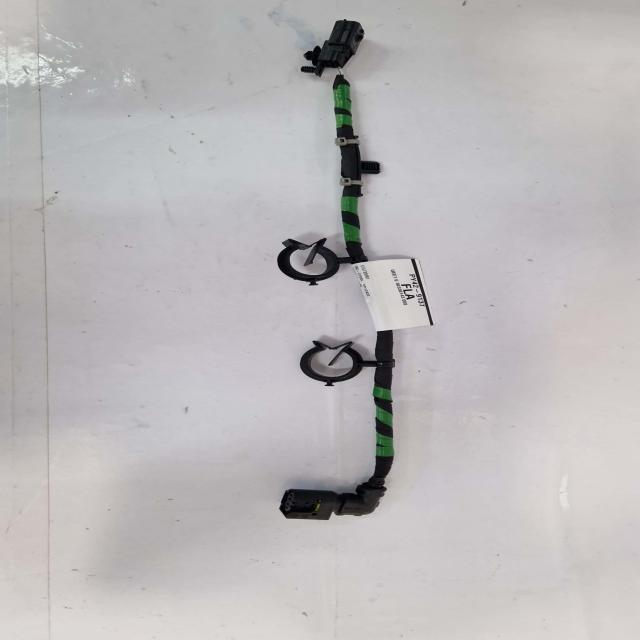AJ20_D6_Cable: (335, 84, 378, 251), (377, 350, 397, 478)
Clip: (299, 341, 381, 380), (280, 240, 344, 280)
Connector: (281, 487, 372, 519), (311, 17, 364, 65)
Info: (357, 263, 430, 326)
strap: (337, 136, 362, 143), (344, 177, 364, 185), (332, 148, 337, 155)
